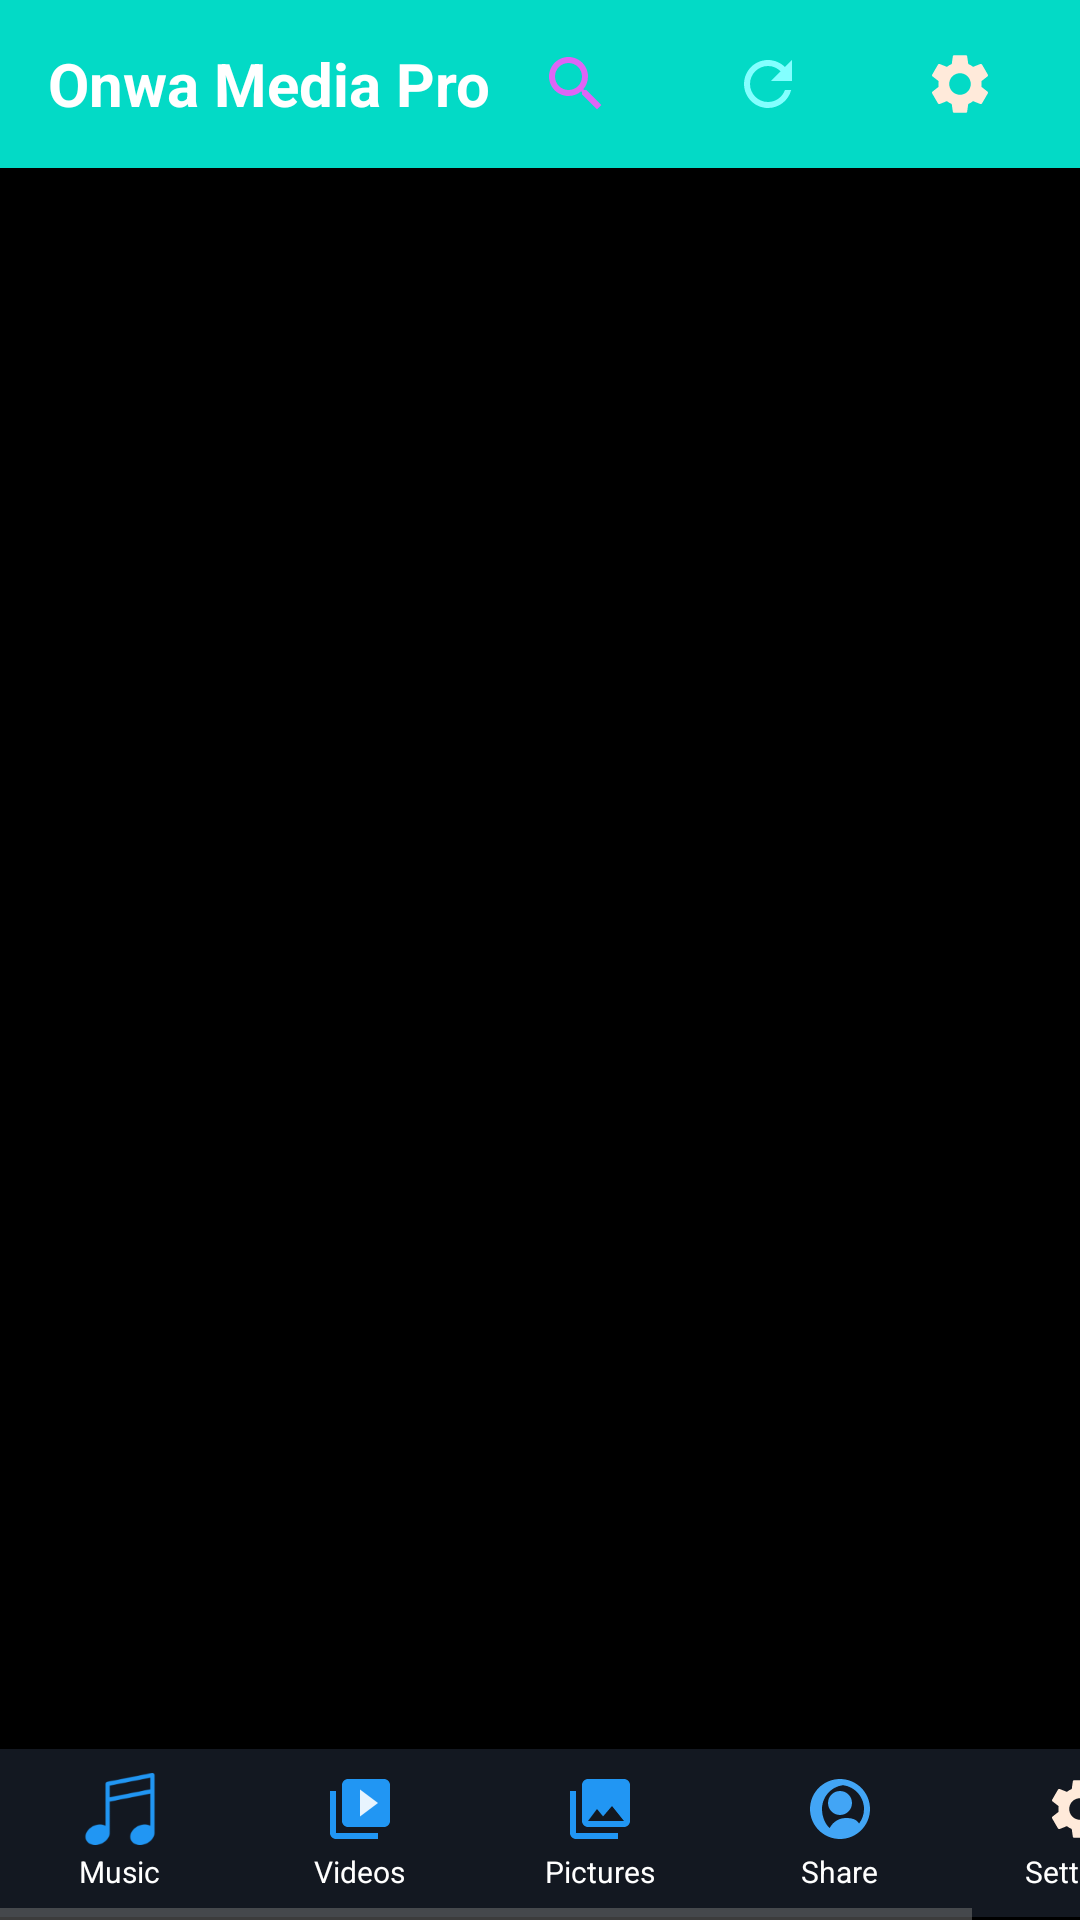

Icons on this 1080*1920 Android screen, each with the point to tap as [x,y]:
Refresh Media List: [768,84]
Search Songs: [575,83]
